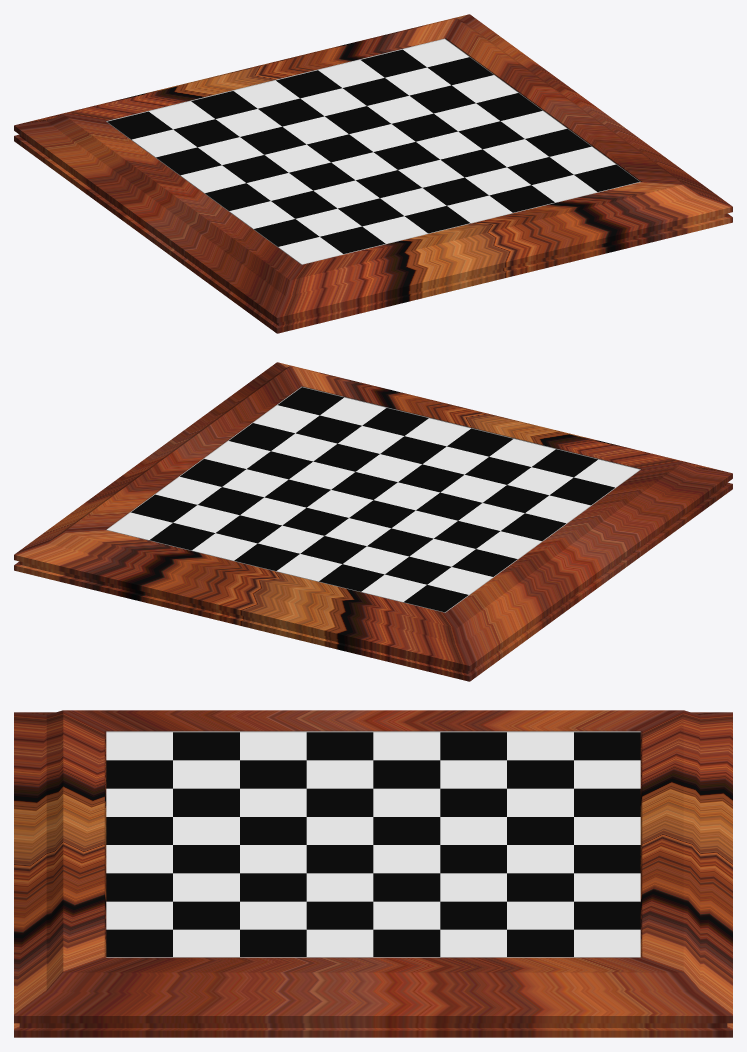
File: Chess_Base.gltf
3 renders of one model, top to bottom at view 1: azimuth 30°, elevation 25°; view 2: azimuth 150°, elevation 25°; view 3: azimuth 270°, elevation 25°, orthographic. The views are drawn at different scales.
Visible parts, largest first — view 1: Chess Board; view 2: Chess Board; view 3: Chess Board.
Part boxes in pixels (x1,y1,x2,y2): Chess Board: (14,14,732,333); Chess Board: (14,362,732,681); Chess Board: (14,710,732,1037).
Size of the model in its own units: 0.6459 by 0.044 by 0.6459.
3 materials, 1 textured.
